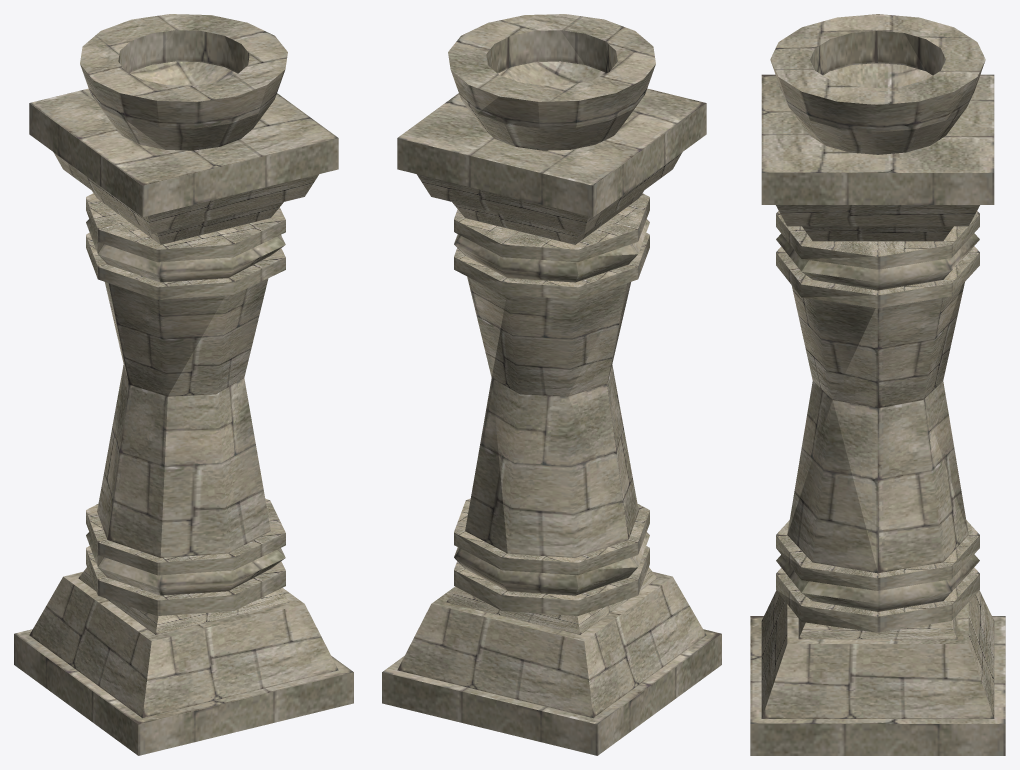
Rendered from pillar.obj.
The picture shows the model from 3 angles, left to right: view 1: azimuth 30°, elevation 25°; view 2: azimuth 150°, elevation 25°; view 3: azimuth 270°, elevation 25°; orthographic projection. The views are drawn at different scales.
Parts seen in each view (by area): view 1: Mesh_0009; view 2: Mesh_0009; view 3: Mesh_0009.
Boxes of the visible parts, <box> form: Mesh_0009: <box>14,14,353,755</box>; Mesh_0009: <box>382,14,721,755</box>; Mesh_0009: <box>750,14,1005,755</box>.
Bounding box in the file's own units: 180 × 500 × 180.
1 material, 1 textured.
